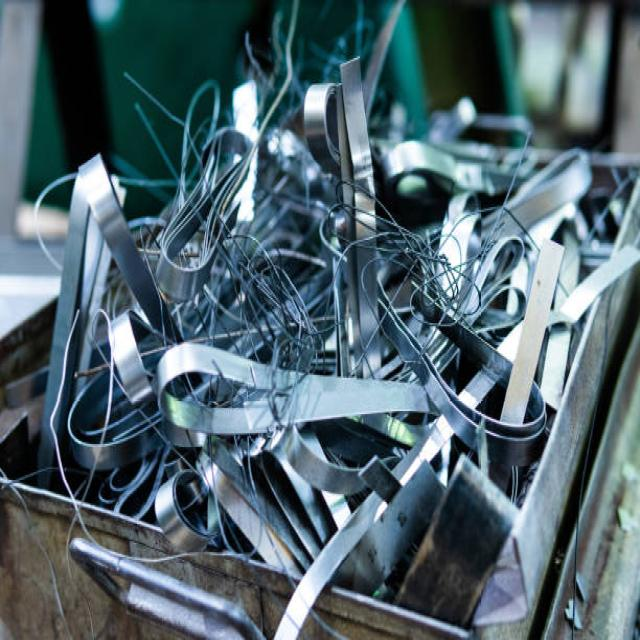metal: (157, 141, 537, 563)
